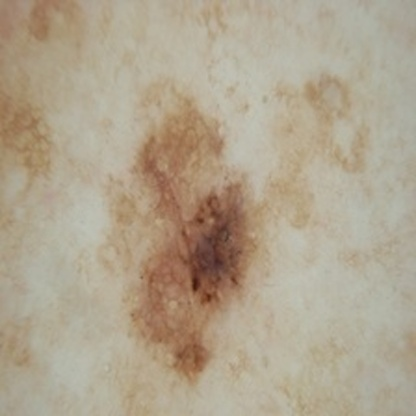malignant: (123, 176, 258, 365)
